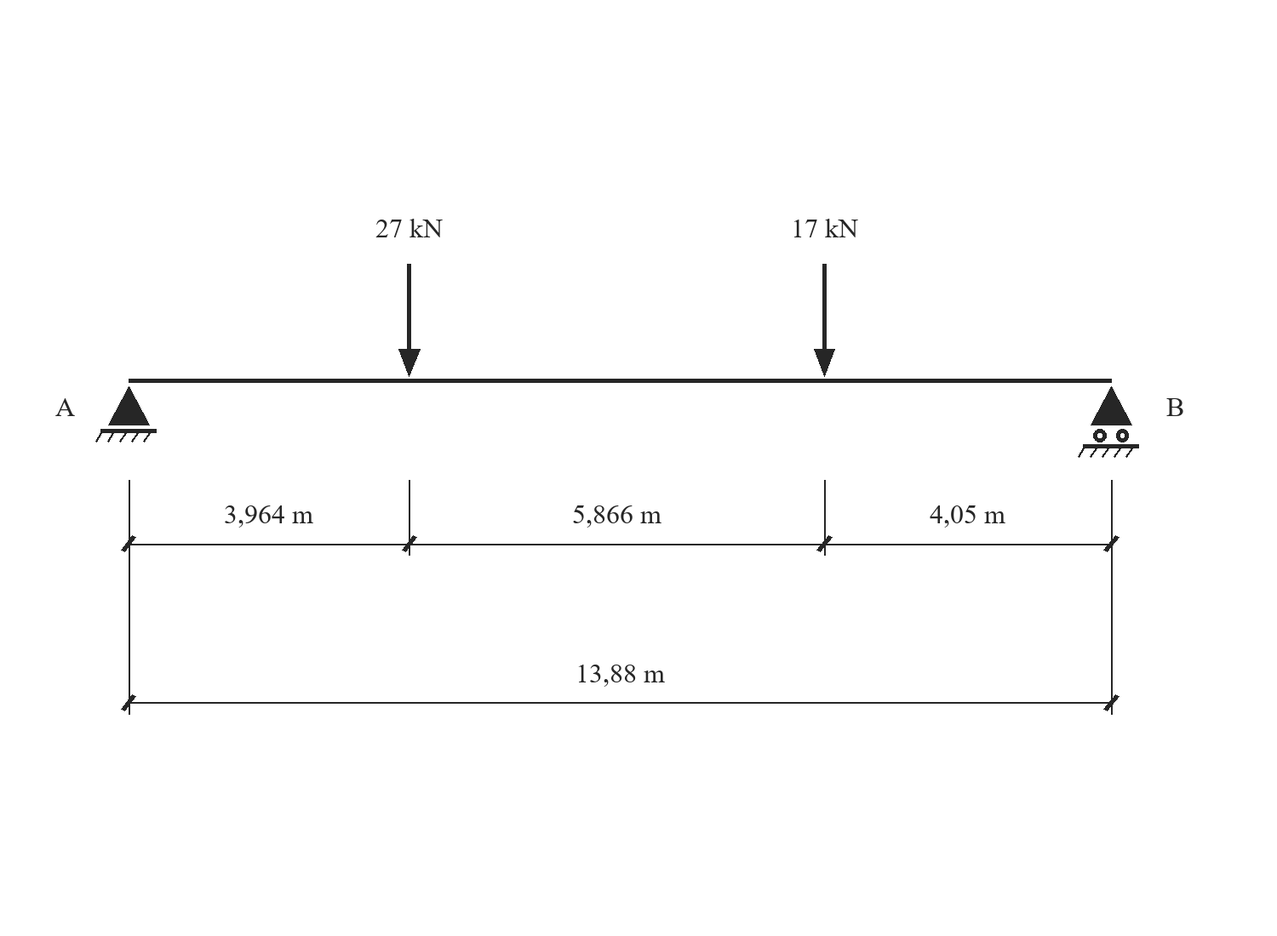pin_support: (95, 386, 157, 442)
point_load: (398, 264, 421, 377), (814, 264, 835, 377)
roller_support: (1078, 386, 1139, 458)
